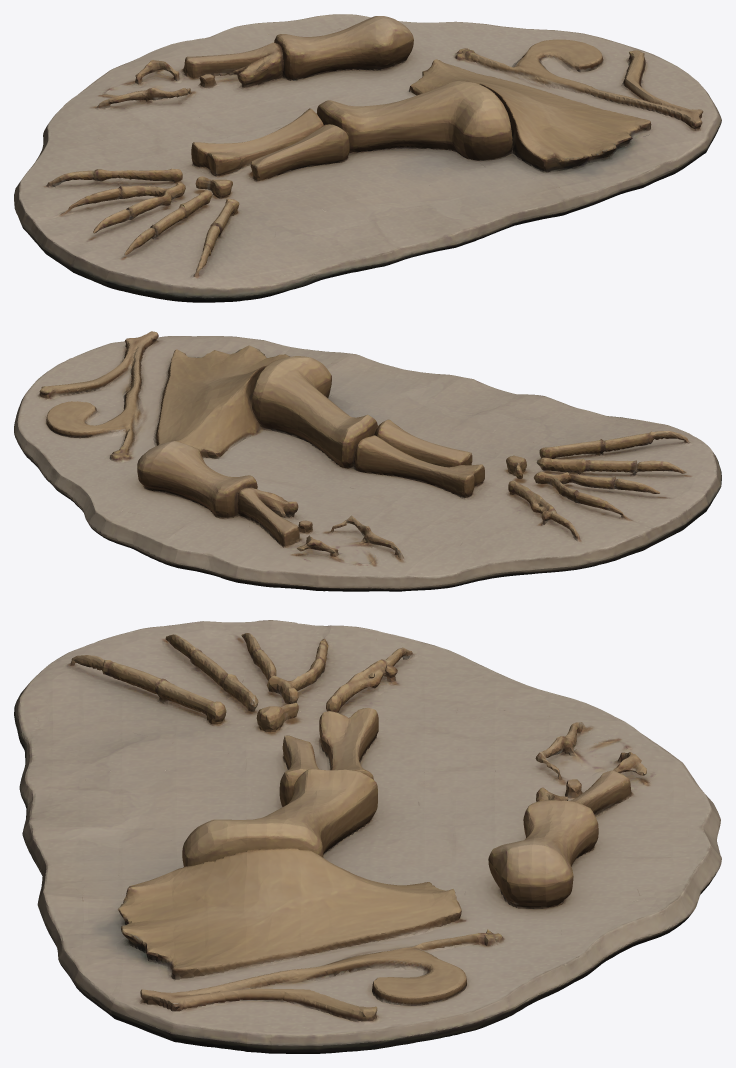
The picture shows the model from 3 angles, top to bottom: view 1: azimuth 30°, elevation 25°; view 2: azimuth 150°, elevation 25°; view 3: azimuth 270°, elevation 25°; orthographic projection. The views are drawn at different scales.
Visible parts, largest first — view 1: world; view 2: world; view 3: world.
Part boxes in pixels (box(x1,y1,x2,y2)): world: box(14, 14, 721, 302); world: box(14, 331, 721, 591); world: box(14, 620, 721, 1053).
Bounding box in the file's own units: 0.35 × 0.0341 × 0.2514.
1 material, 1 textured.
